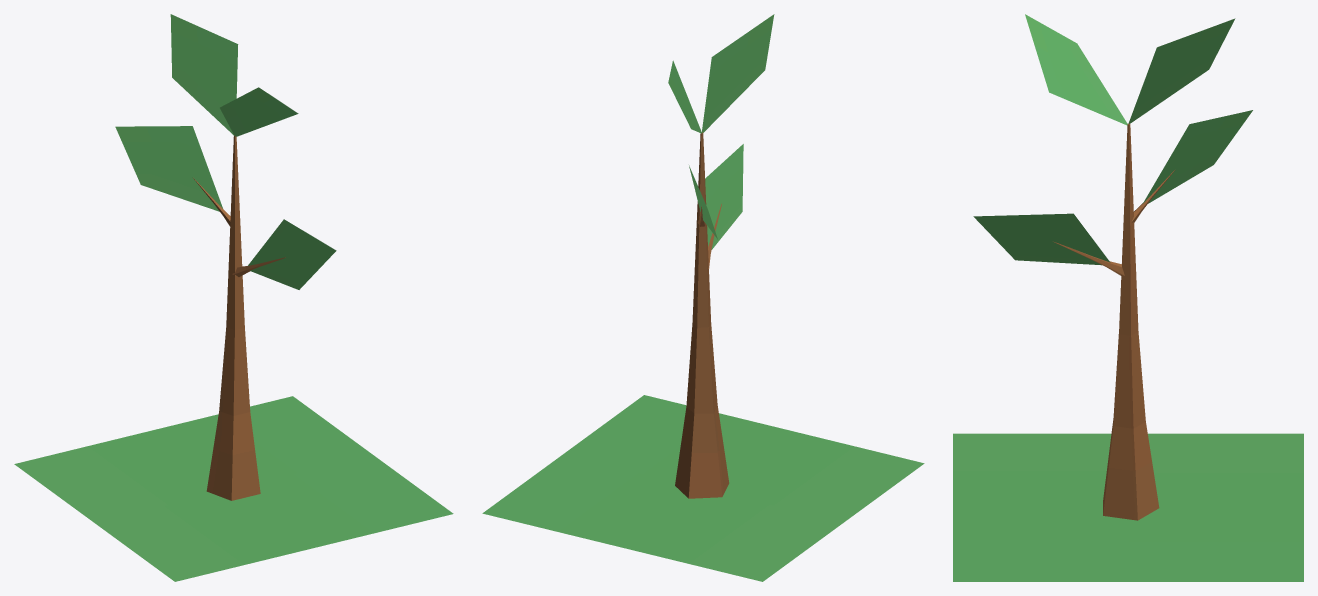
Rendered from Floor-Tree.glb.
The picture shows the model from 3 angles, left to right: view 1: azimuth 30°, elevation 25°; view 2: azimuth 150°, elevation 25°; view 3: azimuth 270°, elevation 25°; orthographic projection. The views are drawn at different scales.
Visible parts, largest first — view 1: Plane, Cylinder, Plane.002, Plane.004, Plane.001, Plane.003; view 2: Plane, Cylinder, Plane.003, Plane.001, Plane.004; view 3: Plane, Cylinder, Plane.001, Plane.003, Plane.004, Plane.002.
Part boxes in pixels (bbox=[...]): Plane: bbox=[14, 396, 453, 581]; Cylinder: bbox=[206, 135, 260, 500]; Plane.002: bbox=[115, 126, 222, 211]; Plane.004: bbox=[170, 14, 238, 135]; Plane.001: bbox=[248, 219, 336, 289]; Plane.003: bbox=[220, 87, 298, 136]; Plane: bbox=[482, 395, 924, 581]; Cylinder: bbox=[675, 132, 729, 498]; Plane.003: bbox=[702, 14, 774, 132]; Plane.001: bbox=[705, 144, 743, 249]; Plane.004: bbox=[668, 60, 701, 133]; Plane: bbox=[953, 433, 1303, 581]; Cylinder: bbox=[1103, 124, 1159, 520]; Plane.001: bbox=[973, 213, 1110, 265]; Plane.003: bbox=[1025, 14, 1127, 125]; Plane.004: bbox=[1128, 18, 1235, 123]; Plane.002: bbox=[1143, 110, 1252, 203].
Bounding box in the file's own units: 4 × 6.11 × 4.
1 material, 1 textured.
